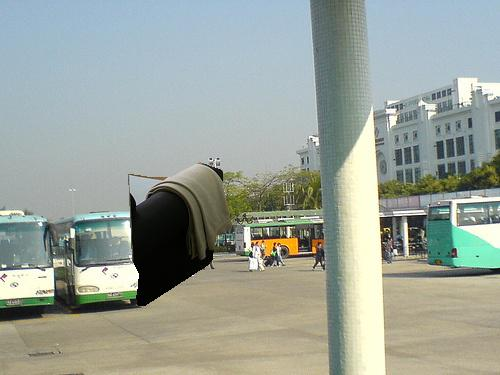tampered: (129, 163, 232, 306)
